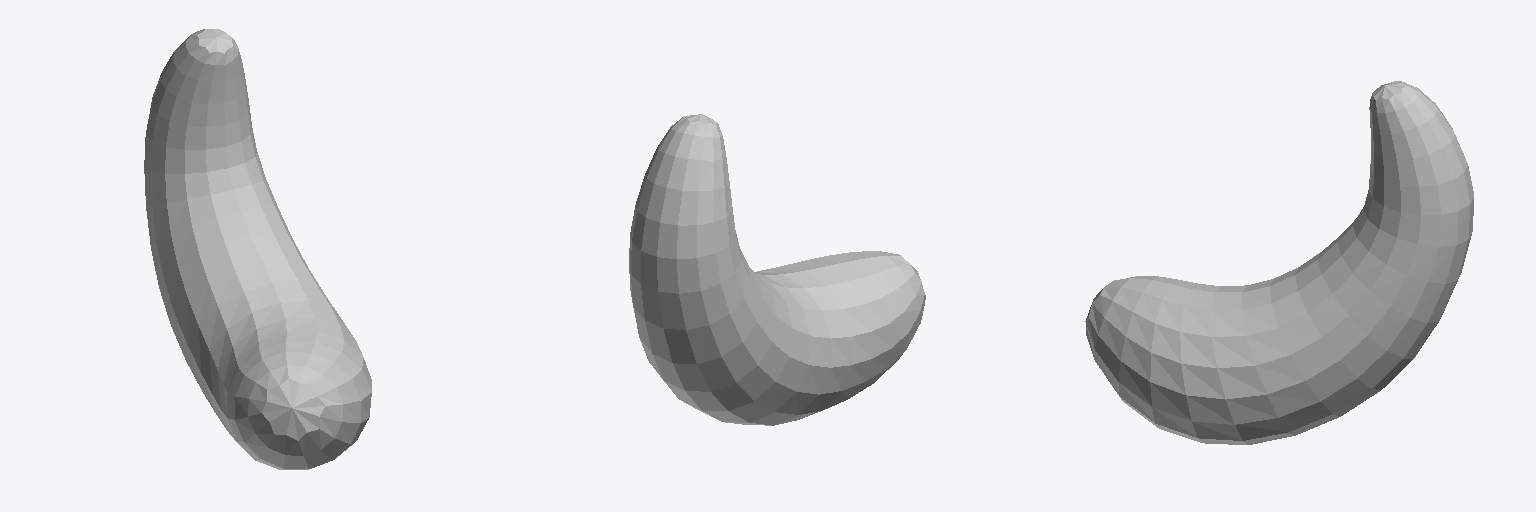
File: ogur_01.obj
The picture shows the model from 3 angles: view 1: azimuth 30°, elevation 25°; view 2: azimuth 150°, elevation 25°; view 3: azimuth 270°, elevation 25°; orthographic projection.
Parts seen in each view (by area): view 1: Circle; view 2: Circle; view 3: Circle.
Part boxes in pixels (left/top/right/bottom): Circle: left=144, top=29, right=371, bottom=469; Circle: left=629, top=114, right=925, bottom=425; Circle: left=1085, top=81, right=1473, bottom=444.
Bounding box in the file's own units: 2.11 × 4.42 × 4.39.